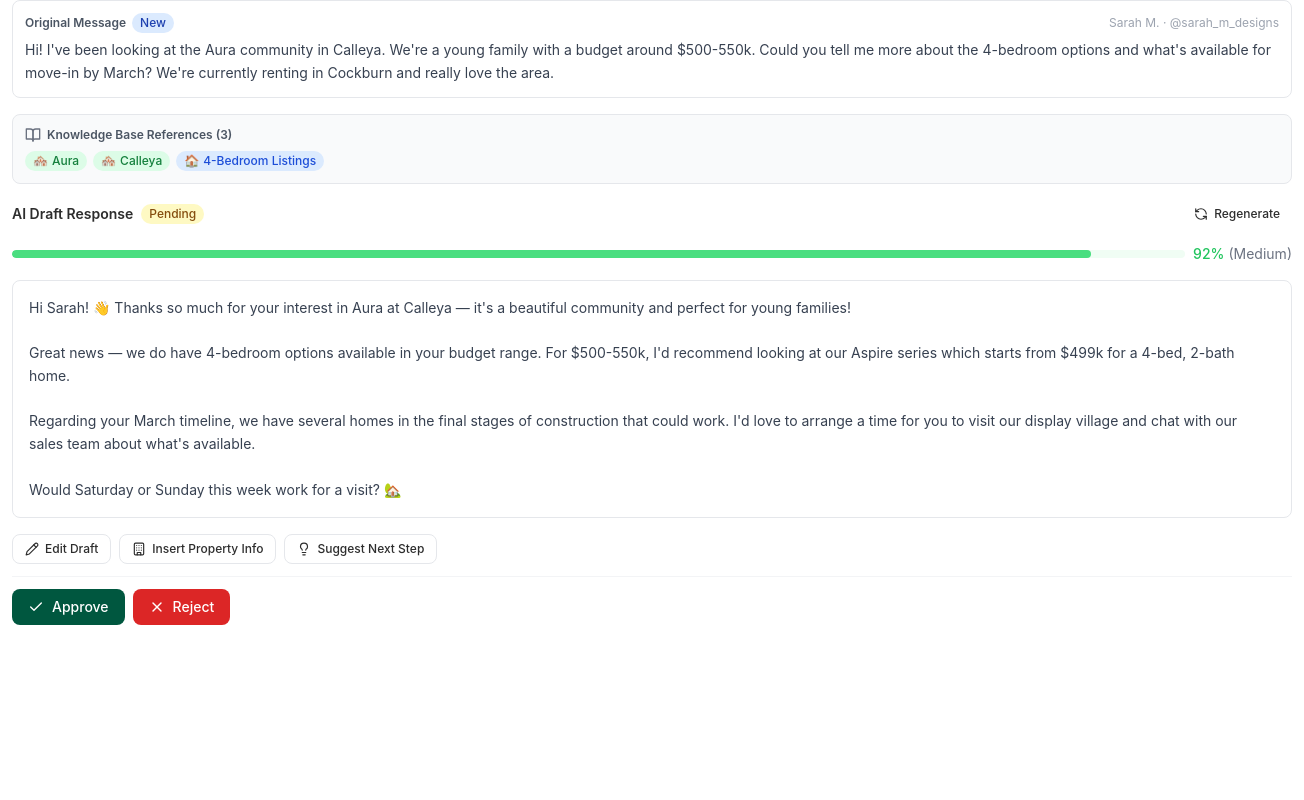
DraftComposer › editing › shows error when edit API fails
The image size is (1304, 800).
Step 1. Click the button "Edit Draft" → (62, 549), box [12,534,111,564]
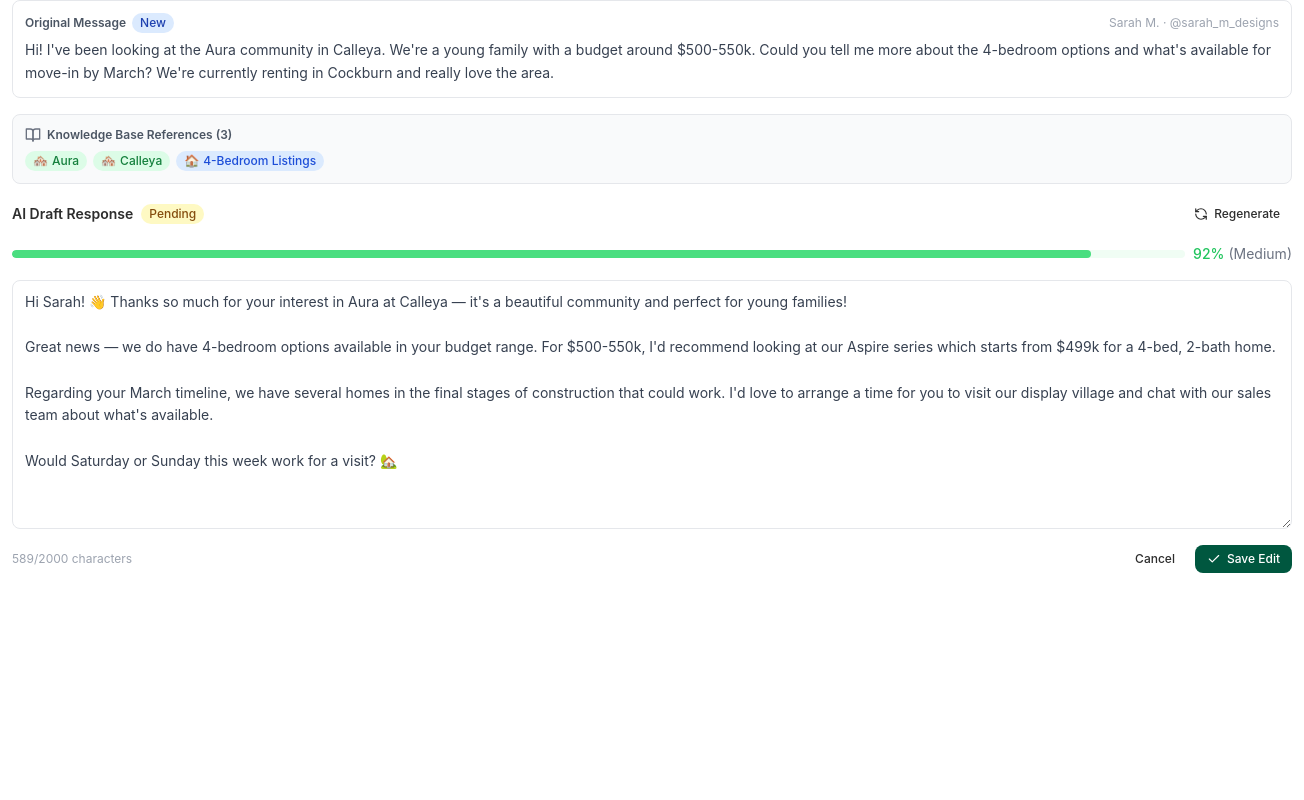
Step 2. Replace the text in the text box named "Edit draft content" with "Some edited content." → (652, 404), box [12,280,1292,529]
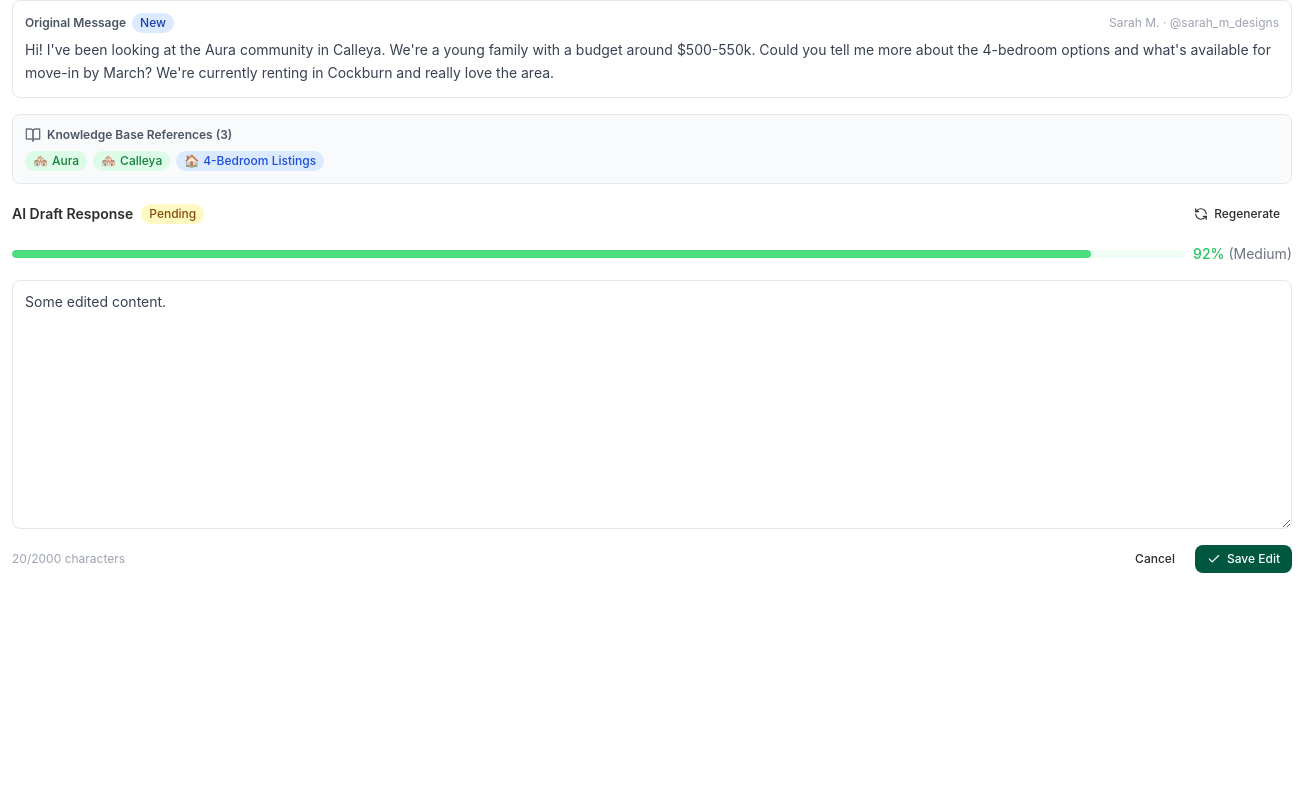
Step 3. Click the button "Save Edit" → (1243, 559), box [1195,545,1292,573]
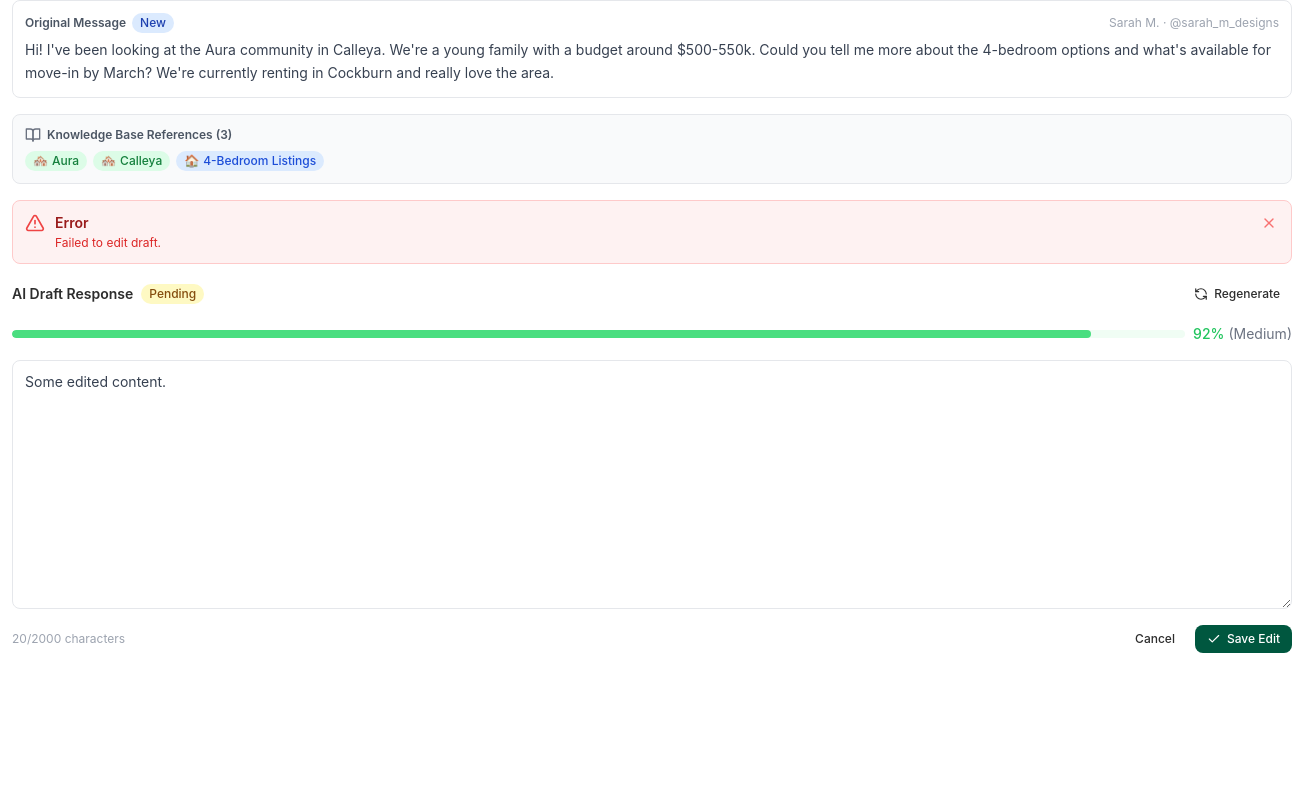
Expected: the message "Error Failed to edit draft." is shown, [12,200,1292,264]
